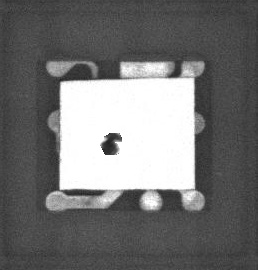DIE_INK: (100, 133, 124, 156)
